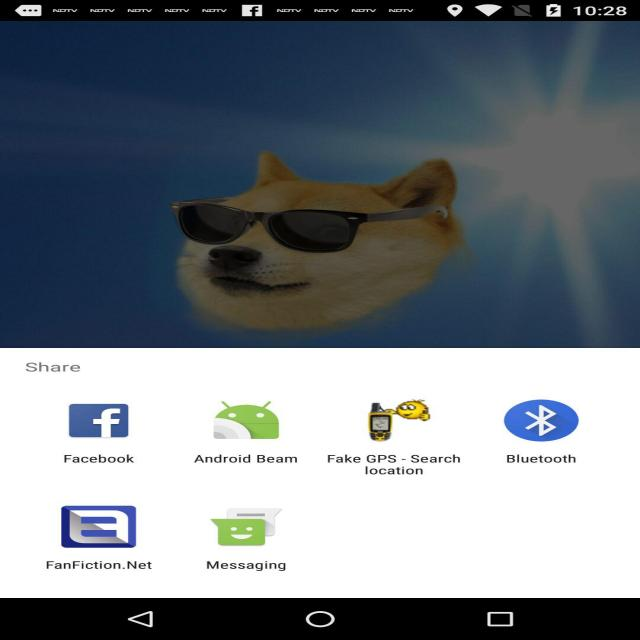image: (4, 20, 640, 347)
